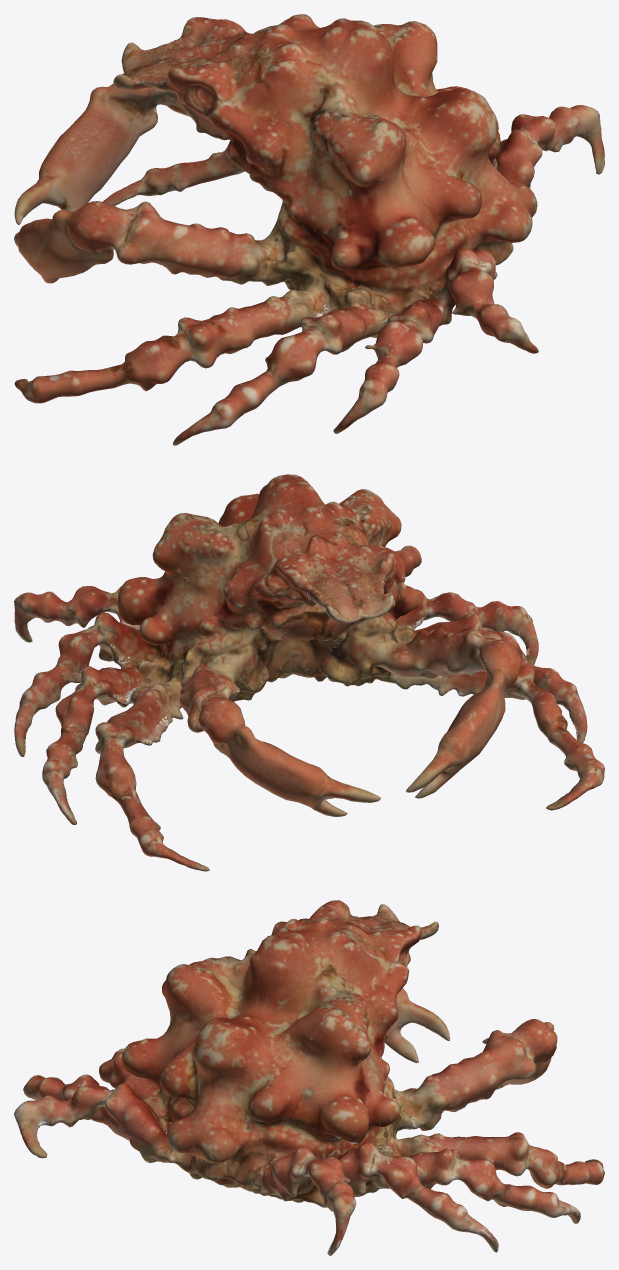
Rendered from Pisa_Chiragra.glb.
3 views of the same model, one above another, from view 1: azimuth 30°, elevation 25°; view 2: azimuth 150°, elevation 25°; view 3: azimuth 270°, elevation 25° (orthographic). The views are drawn at different scales.
Visible parts, largest first — view 1: Model; view 2: Model; view 3: Model.
Part boxes in pixels (<box>): Model: <box>14,14,604,445</box>; Model: <box>14,474,604,871</box>; Model: <box>14,900,604,1255</box>.
Bounding box in the file's own units: 0.065 × 0.0301 × 0.0612.
1 material, 1 textured.
